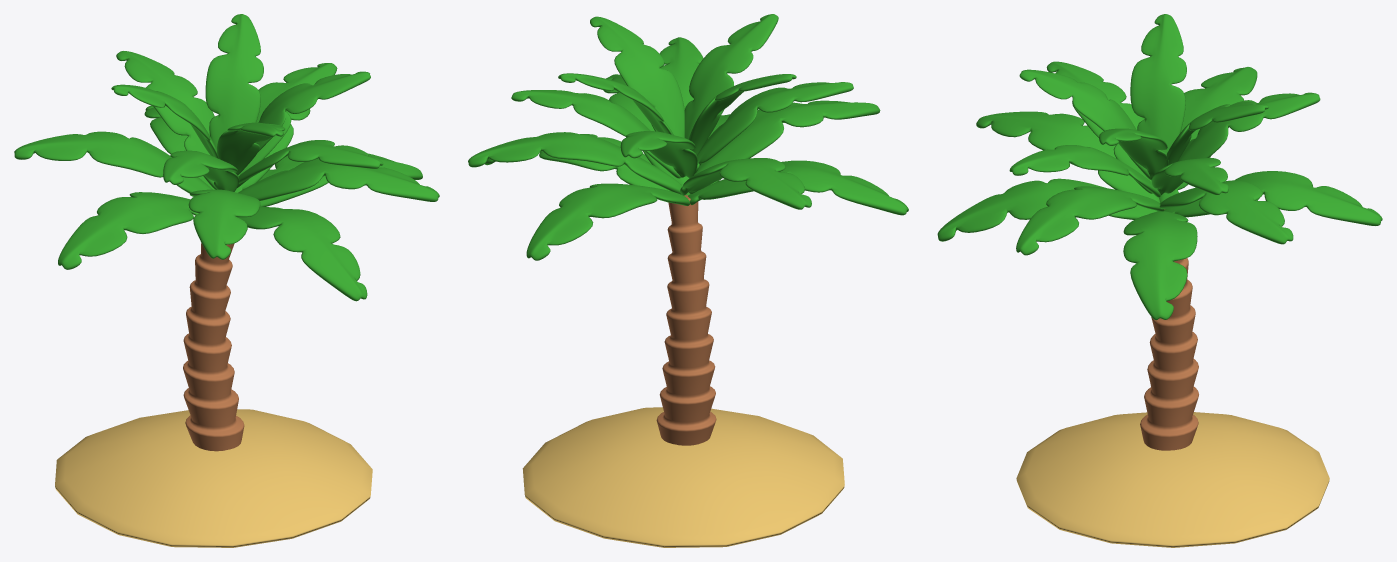
File: palm.glb
3 renders of one model, left to right at view 1: azimuth 30°, elevation 25°; view 2: azimuth 150°, elevation 25°; view 3: azimuth 270°, elevation 25°, orthographic. The views are drawn at different scales.
Parts seen in each view (by area): view 1: Cube.017, Cylinder.037, Plane.023, Plane.012, Plane.013, Plane.016, Plane.014, Plane.019, Plane.017, Plane.022, Plane.021, Plane.020 (+6 smaller); view 2: Cube.017, Cylinder.037, Plane.011, Plane.022, Plane.015, Plane.025, Plane.017, Plane.012, Plane.016, Plane.020, Plane.018, Plane.019 (+5 smaller); view 3: Cube.017, Cylinder.037, Plane.010, Plane.024, Plane.014, Plane.011, Plane.017, Plane.013, Plane.015, Plane.025, Plane.019, Plane.021 (+5 smaller).
Boxes of the visible parts, <box> form: Cube.017: <box>55,409,372,547</box>; Cylinder.037: <box>183,243,244,451</box>; Plane.023: <box>205,14,263,148</box>; Plane.012: <box>58,192,198,269</box>; Plane.013: <box>238,207,367,301</box>; Plane.016: <box>14,131,212,193</box>; Plane.014: <box>238,158,439,201</box>; Plane.019: <box>116,51,217,189</box>; Plane.017: <box>188,189,260,259</box>; Plane.022: <box>255,71,370,151</box>; Plane.021: <box>237,140,383,187</box>; Plane.020: <box>163,150,239,191</box>; Cube.017: <box>522,407,844,547</box>; Cylinder.037: <box>656,195,716,445</box>; Plane.011: <box>526,183,690,260</box>; Plane.022: <box>590,16,684,137</box>; Plane.015: <box>468,132,682,194</box>; Plane.025: <box>684,14,778,139</box>; Plane.017: <box>689,100,880,193</box>; Plane.012: <box>688,160,908,215</box>; Plane.016: <box>680,158,811,209</box>; Plane.020: <box>695,82,853,173</box>; Plane.018: <box>511,90,680,178</box>; Plane.019: <box>620,131,697,178</box>; Cube.017: <box>1016,412,1329,547</box>; Cylinder.037: <box>1140,209,1198,450</box>; Plane.010: <box>1123,211,1197,320</box>; Plane.024: <box>1130,14,1186,153</box>; Plane.014: <box>1016,186,1164,255</box>; Plane.011: <box>1164,171,1382,225</box>; Plane.017: <box>976,111,1159,202</box>; Plane.013: <box>937,178,1157,241</box>; Plane.015: <box>1157,180,1293,244</box>; Plane.025: <box>1019,69,1151,180</box>; Plane.019: <box>1164,92,1320,192</box>; Plane.021: <box>1009,145,1160,197</box>.
Size of the model in its own units: 9.15 by 9.6 by 9.16.
